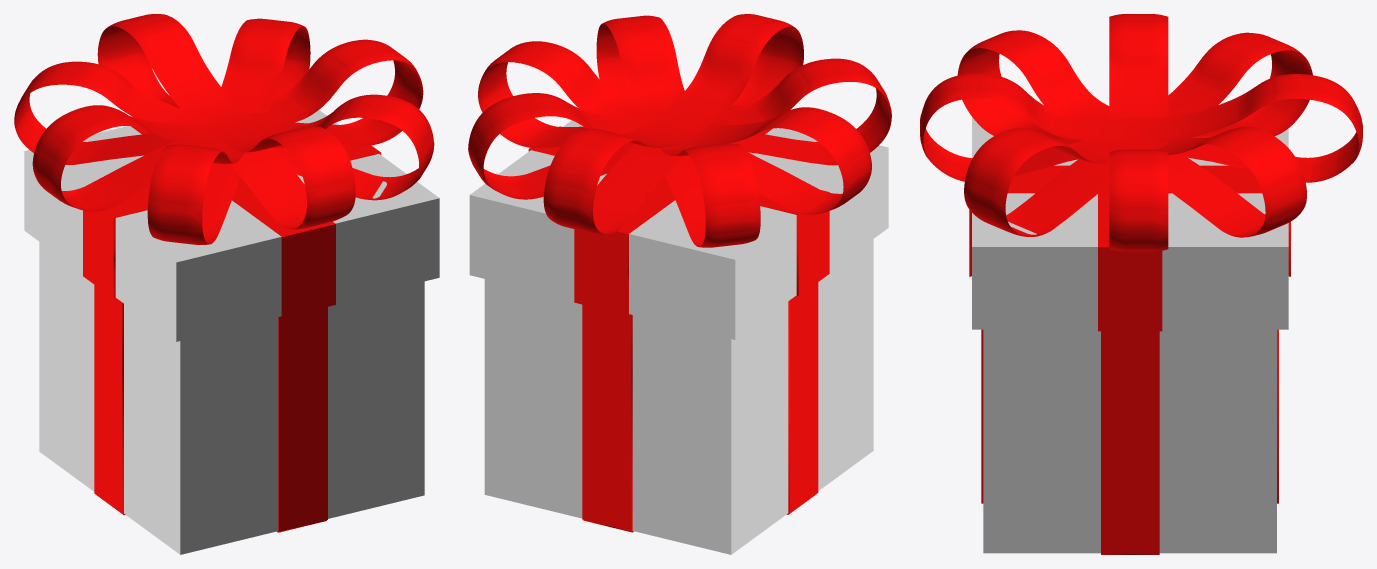
The model's file is regalos.fbx.
3 renders of one model, left to right at view 1: azimuth 30°, elevation 25°; view 2: azimuth 150°, elevation 25°; view 3: azimuth 270°, elevation 25°, orthographic. The views are drawn at different scales.
Visible parts, largest first — view 1: Caja, Tapa, Recorrido, Recorrido_1_2, Recorrido_3_2, Recorrido_2_2; view 2: Caja, Tapa, Recorrido, Recorrido_1_2, Recorrido_2_2, Recorrido_3_2; view 3: Caja, Tapa, Recorrido_3_2, Recorrido_2_2, Recorrido, Recorrido_1_2.
Part boxes in pixels (bbox=[...]): Caja: bbox=[39, 242, 424, 554]; Tapa: bbox=[24, 110, 439, 341]; Recorrido: bbox=[97, 14, 355, 229]; Recorrido_1_2: bbox=[32, 39, 423, 211]; Recorrido_3_2: bbox=[147, 18, 310, 244]; Recorrido_2_2: bbox=[14, 61, 434, 200]; Caja: bbox=[484, 239, 873, 554]; Tapa: bbox=[469, 120, 888, 339]; Recorrido: bbox=[543, 14, 803, 234]; Recorrido_1_2: bbox=[478, 41, 871, 214]; Recorrido_2_2: bbox=[596, 15, 760, 247]; Recorrido_3_2: bbox=[468, 58, 891, 199]; Caja: bbox=[981, 329, 1278, 554]; Tapa: bbox=[969, 117, 1290, 331]; Recorrido_3_2: bbox=[957, 30, 1306, 237]; Recorrido_2_2: bbox=[964, 32, 1312, 236]; Recorrido: bbox=[920, 73, 1362, 182]; Recorrido_1_2: bbox=[1109, 14, 1168, 251].
Bounding box in the file's own units: 302 × 307 × 302.
